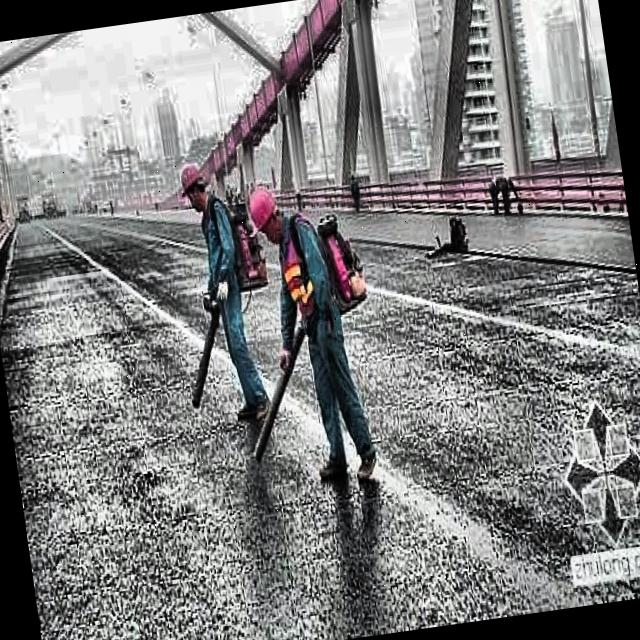helmet: (243, 179, 284, 241), (176, 158, 212, 212)
